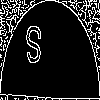S: (25, 25, 42, 73)
